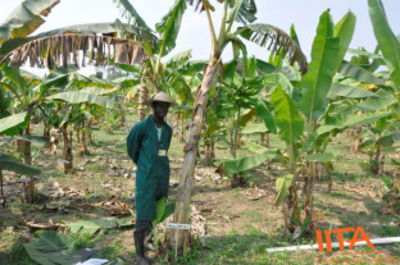bananaHand: (220, 71, 266, 111)
